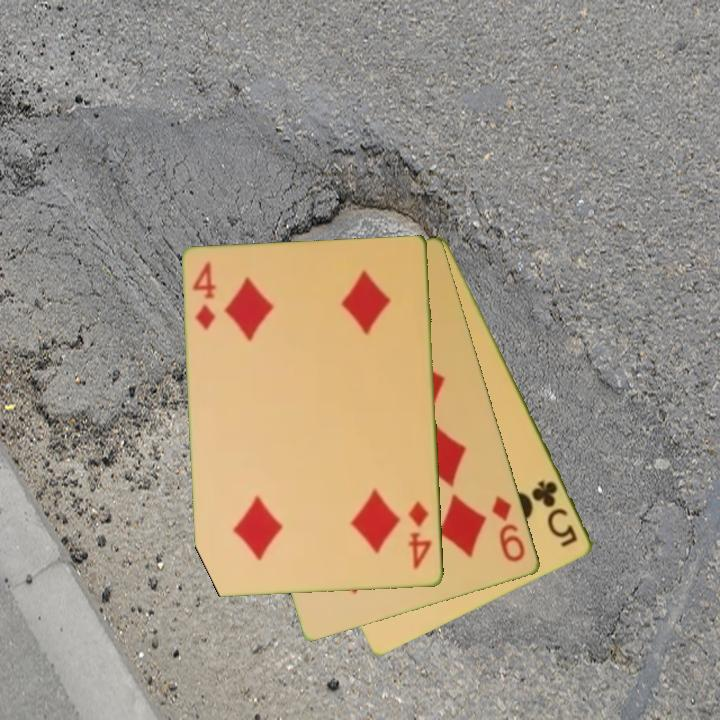4d: (405, 498, 435, 572), (189, 259, 219, 333)
5c: (529, 477, 581, 551)
9d: (489, 492, 529, 566)
